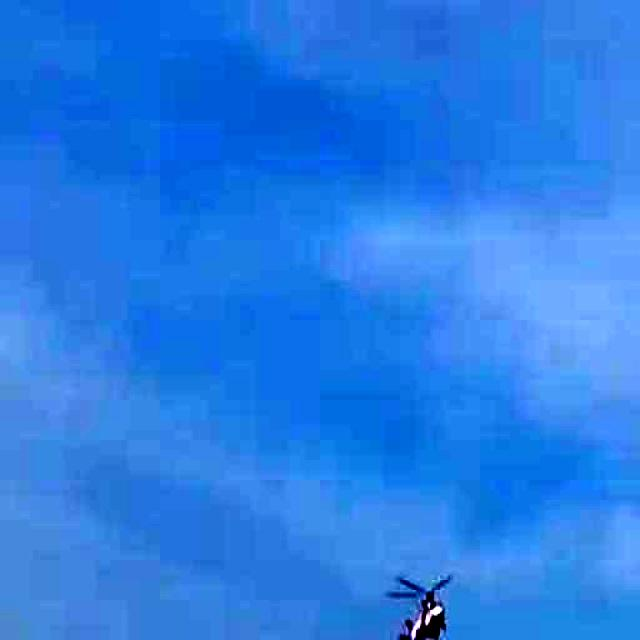drone: (381, 568, 465, 640)
